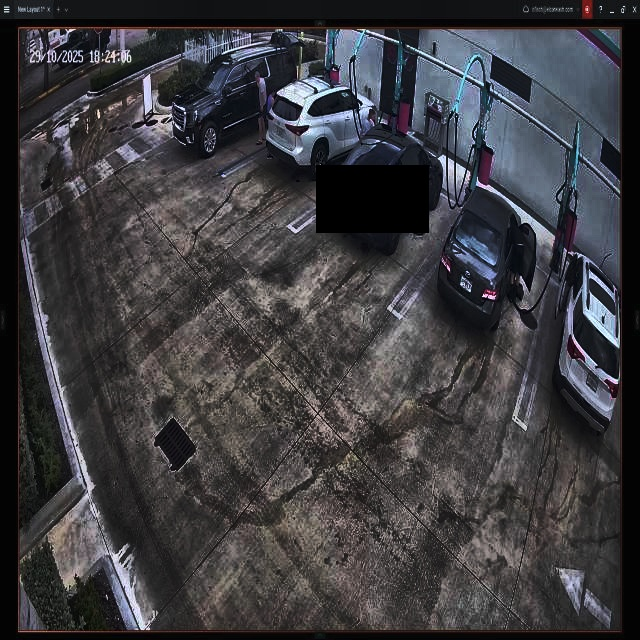Car: (172, 44, 295, 156), (438, 184, 535, 325), (333, 124, 442, 244), (266, 79, 376, 170)
